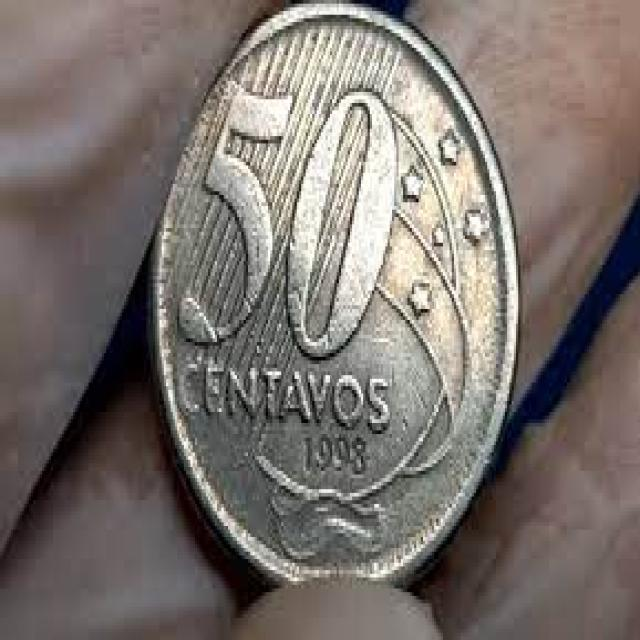50 cent: (155, 3, 520, 605)
